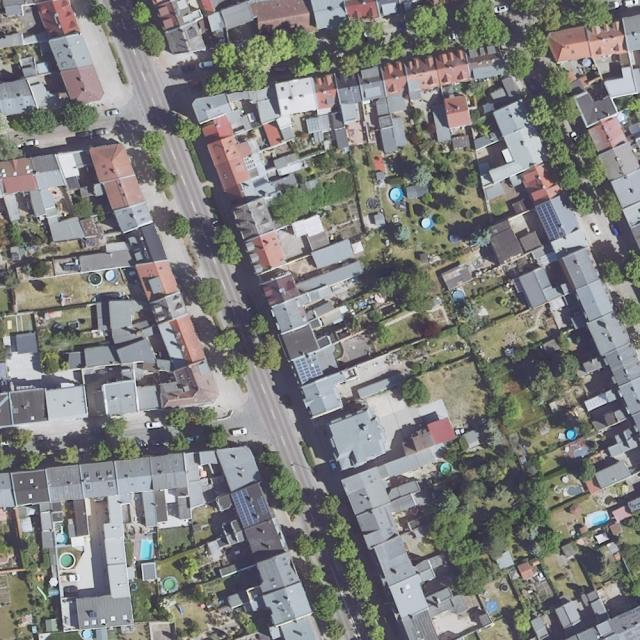PV: (536, 201, 566, 242), (231, 488, 260, 527), (295, 357, 323, 383), (257, 496, 268, 517), (242, 156, 256, 170)
ST: (90, 612, 99, 617)
